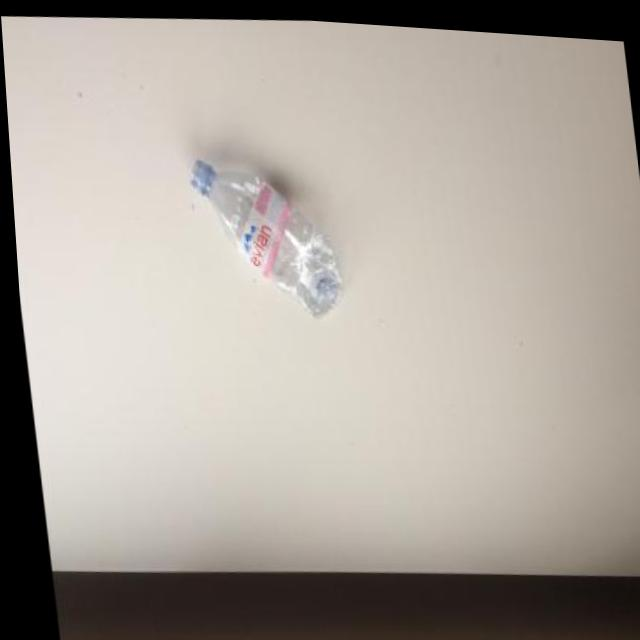plastic: (185, 150, 347, 327)
